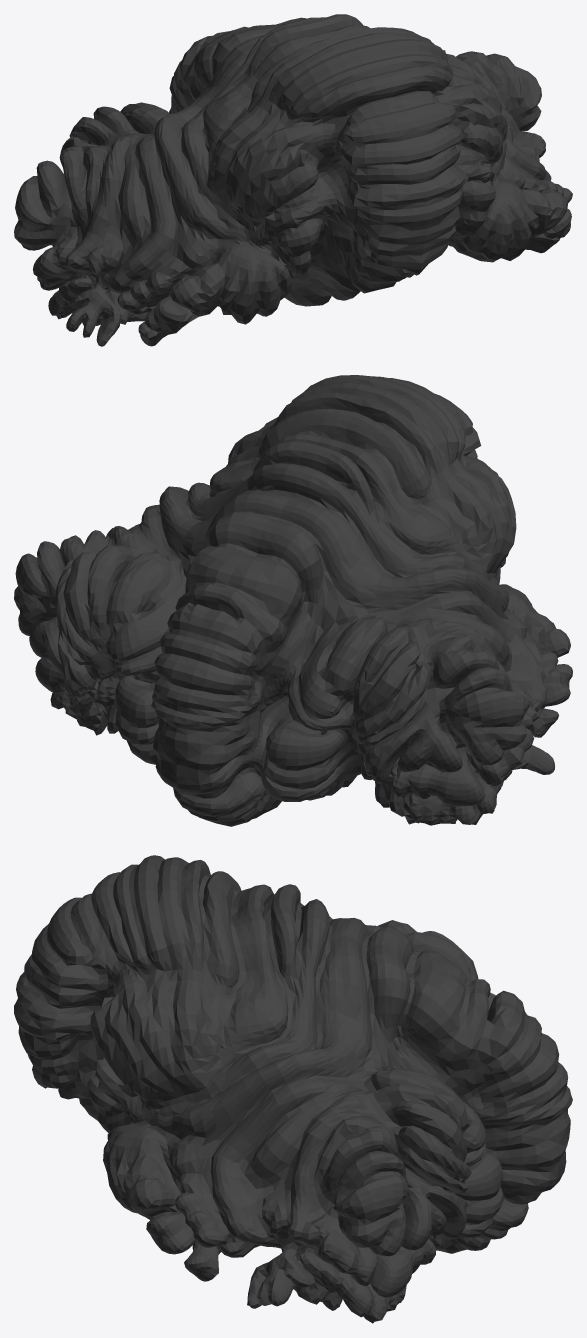
Rendered from Cerebellum_LO.glb.
3 renders of one model, top to bottom at view 1: azimuth 30°, elevation 25°; view 2: azimuth 150°, elevation 25°; view 3: azimuth 270°, elevation 25°, orthographic. The views are drawn at different scales.
Visible parts, largest first — view 1: Cerebellum_LO; view 2: Cerebellum_LO; view 3: Cerebellum_LO.
Part boxes in pixels (x1,y1,x2,y2): Cerebellum_LO: (14, 14, 572, 346); Cerebellum_LO: (14, 375, 572, 826); Cerebellum_LO: (14, 855, 572, 1323).
Bounding box in the file's own units: 0.0165 × 0.0104 × 0.0141.
Materials: 1 (1 with a texture image).
